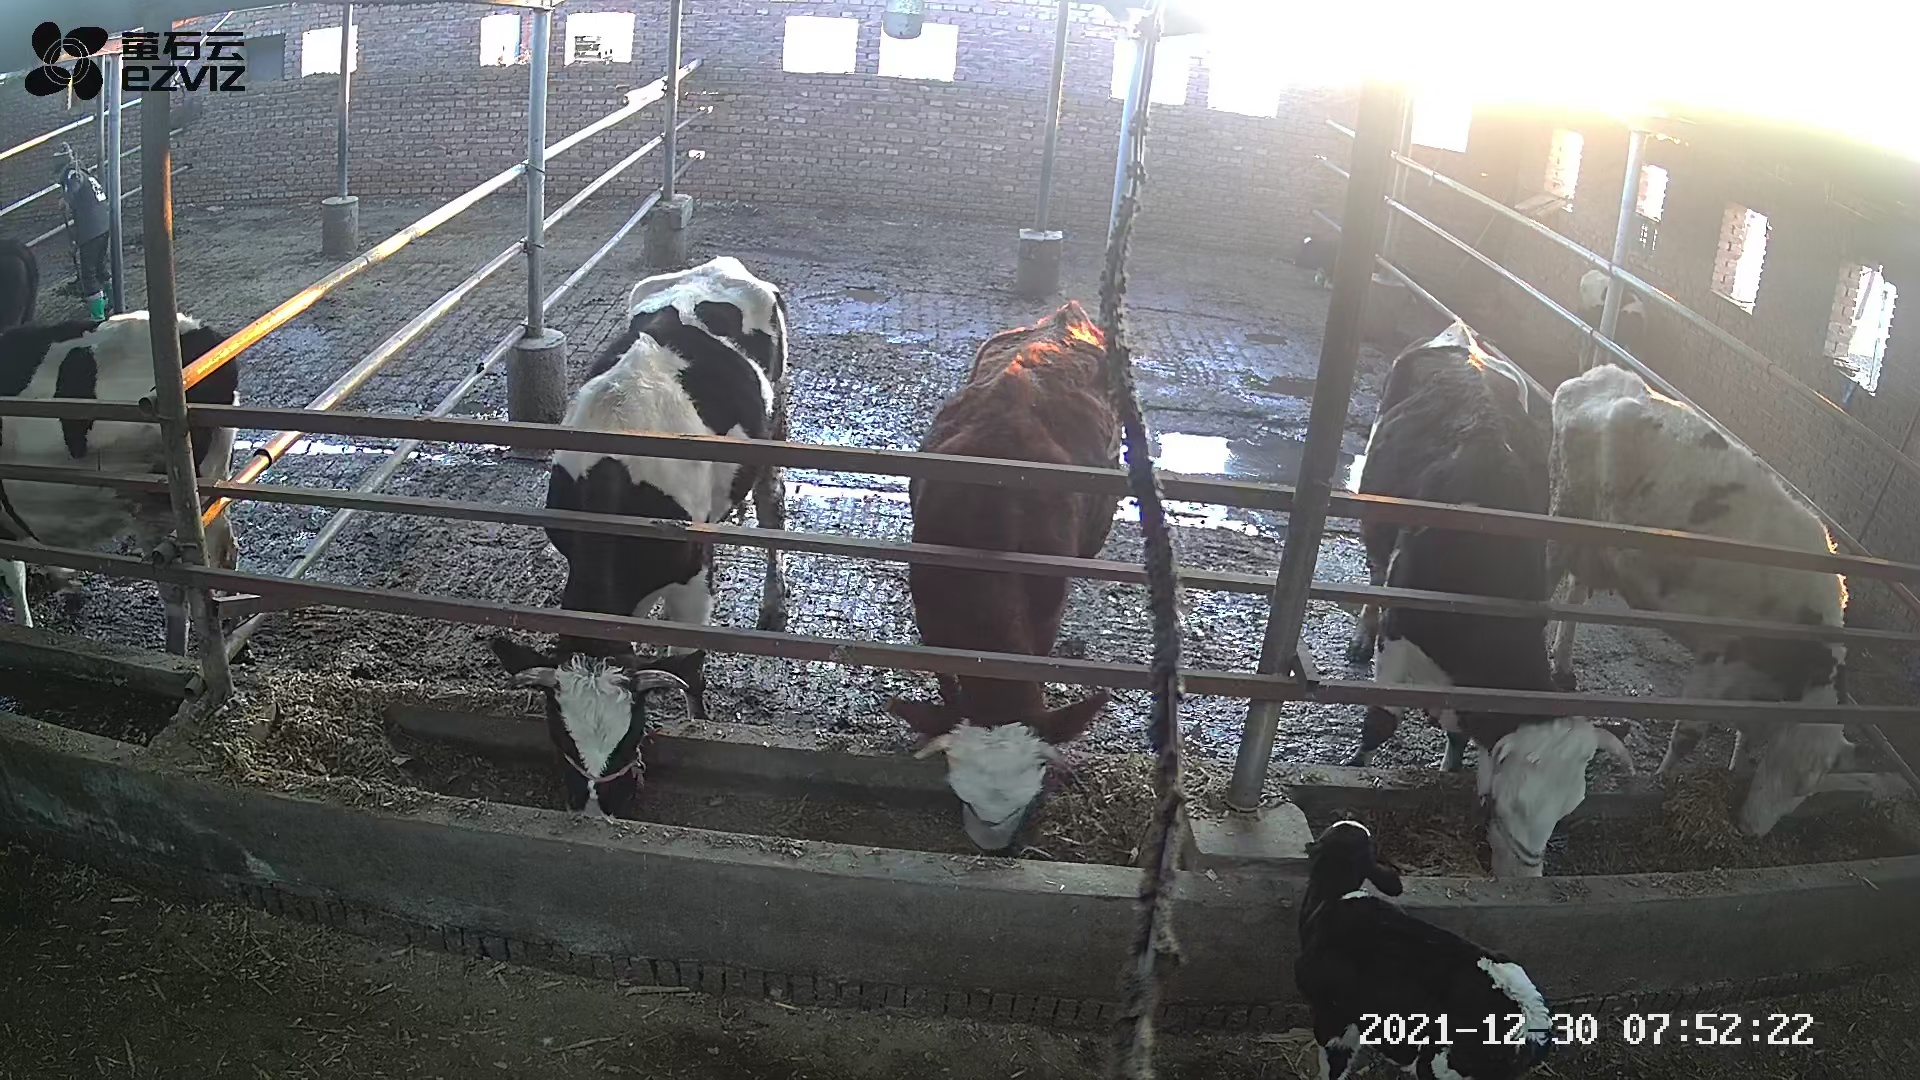cow: (481, 251, 793, 818), (1341, 313, 1636, 877), (1543, 363, 1861, 843), (878, 301, 1124, 851)
